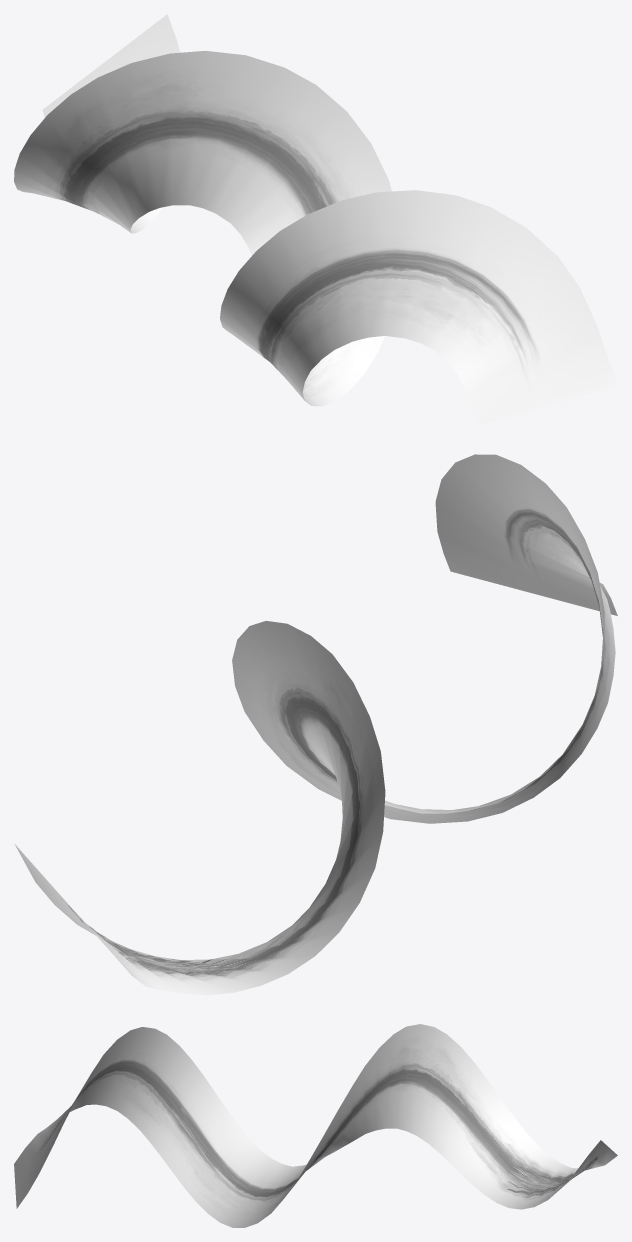
The model's file is WK_longtiaodai.FBX.
3 views of the same model, one above another, from view 1: azimuth 30°, elevation 25°; view 2: azimuth 150°, elevation 25°; view 3: azimuth 270°, elevation 25° (orthographic). The views are drawn at different scales.
Visible parts, largest first — view 1: WK_longtiaodai; view 2: WK_longtiaodai; view 3: WK_longtiaodai.
Boxes of the visible parts, bbox=[...] form: WK_longtiaodai: bbox=[14, 14, 617, 425]; WK_longtiaodai: bbox=[14, 454, 617, 995]; WK_longtiaodai: bbox=[14, 1024, 617, 1227].
Size of the model in its own units: 341 by 312 by 943.
